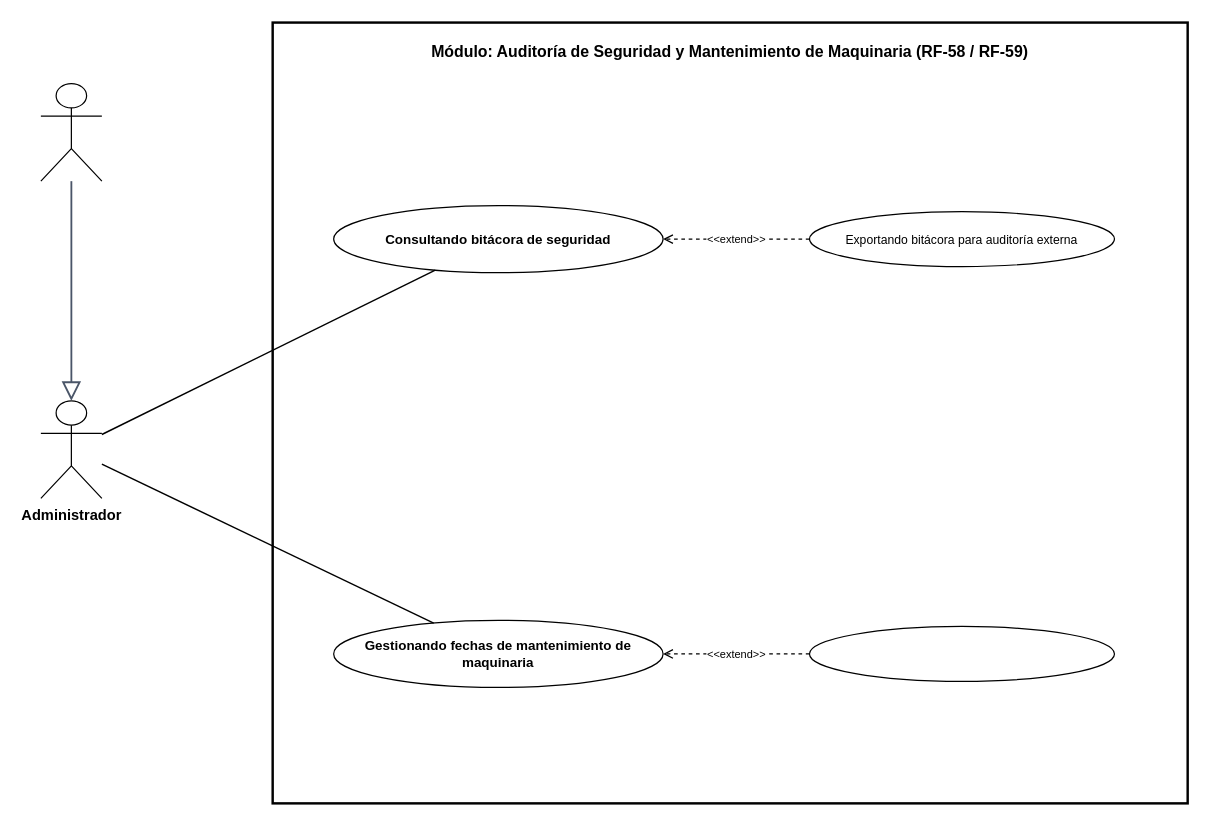
Image size: 1209x825. Some labels were removed from this diagram. The centre of each missing label's shape, as x and y in pixels:
"Consultando calendario de mantenimiento" belongs at (961,653).
"Jefe" belongs at (71,131).
